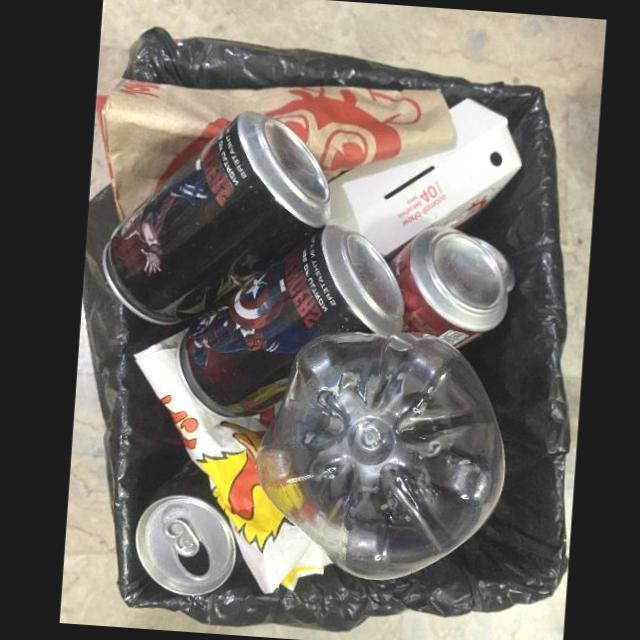carton: (327, 99, 522, 260)
chai_nhua_pet: (255, 332, 507, 582)
giay: (134, 330, 332, 595), (95, 79, 454, 219)
nhom: (104, 111, 330, 327), (178, 225, 404, 418), (387, 227, 516, 347), (134, 460, 238, 597)
